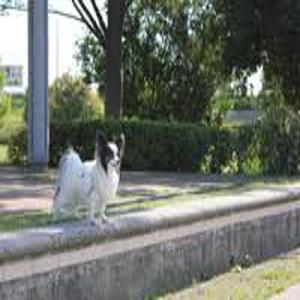yell: (50, 132, 125, 223)
